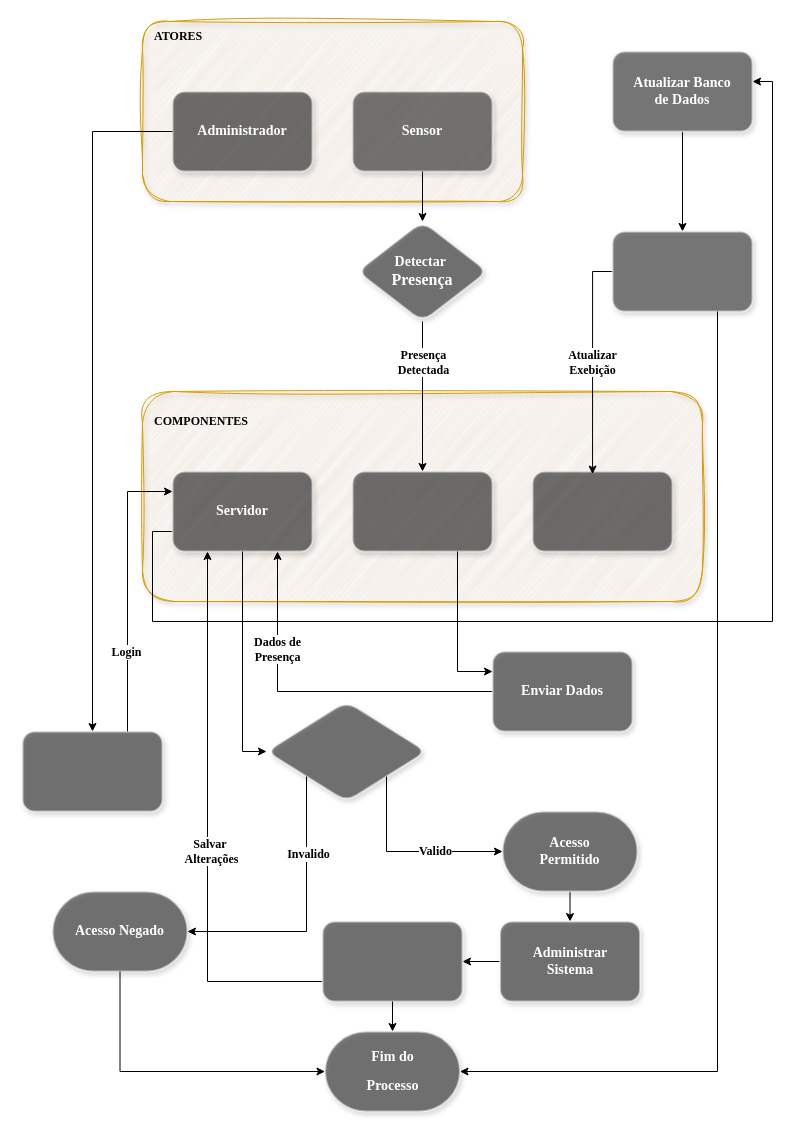
The diagram is 798 pixels wide and 1137 high, and some of its shapes have lost their labels. The centre of each missing label's shape, as x and y in pixels:
"Acessar Sistema" belongs at (x=93, y=772).
"Atualizar Configurações" belongs at (x=393, y=962).
"Display LCD" belongs at (x=603, y=512).
"Exibir Informações" belongs at (x=683, y=272).
"Raspberry Pi Pico W" belongs at (x=423, y=512).
"Verificar Credenciais" belongs at (x=347, y=752).
